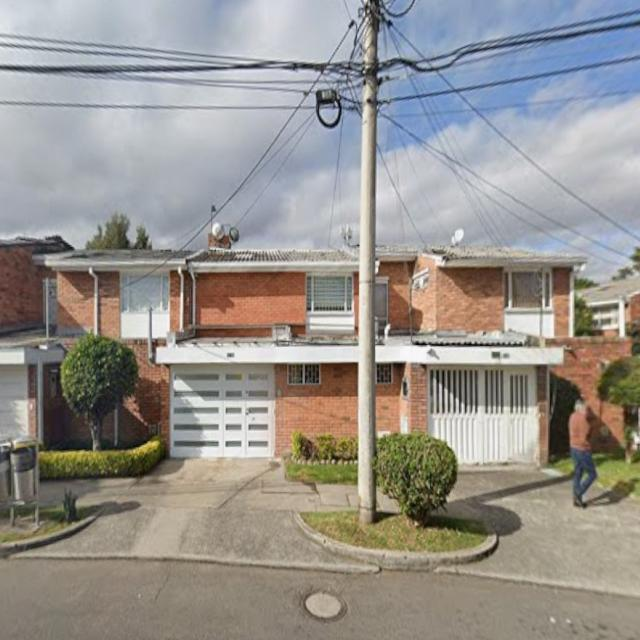Fachada: (46, 240, 358, 456), (375, 246, 629, 463), (0, 237, 72, 439), (47, 406, 90, 443)
Poste: (358, 0, 377, 524)
